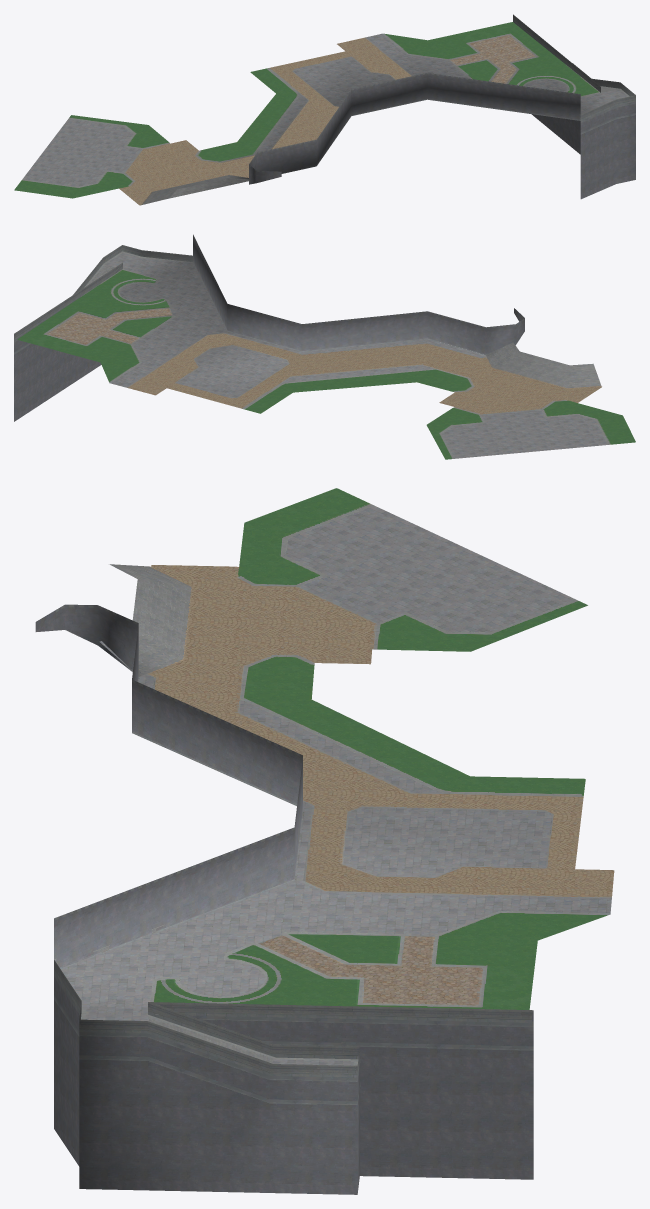
The model's file is plot04.fbx.
The picture shows the model from 3 angles, top to bottom: view 1: azimuth 30°, elevation 25°; view 2: azimuth 150°, elevation 25°; view 3: azimuth 270°, elevation 25°; orthographic projection. The views are drawn at different scales.
Parts seen in each view (by area): view 1: nt:*ObjectIndoorScene_Md_KnightOutDoor_MD_CityArea_MdCi_c7c2; view 2: nt:*ObjectIndoorScene_Md_KnightOutDoor_MD_CityArea_MdCi_c7c2; view 3: nt:*ObjectIndoorScene_Md_KnightOutDoor_MD_CityArea_MdCi_c7c2.
Part boxes in pixels (bbox=[...]): nt:*ObjectIndoorScene_Md_KnightOutDoor_MD_CityArea_MdCi_c7c2: bbox=[14, 14, 635, 205]; nt:*ObjectIndoorScene_Md_KnightOutDoor_MD_CityArea_MdCi_c7c2: bbox=[14, 234, 635, 459]; nt:*ObjectIndoorScene_Md_KnightOutDoor_MD_CityArea_MdCi_c7c2: bbox=[35, 488, 614, 1194].
Size of the model in its own units: 200 by 35.71 by 88.95.
